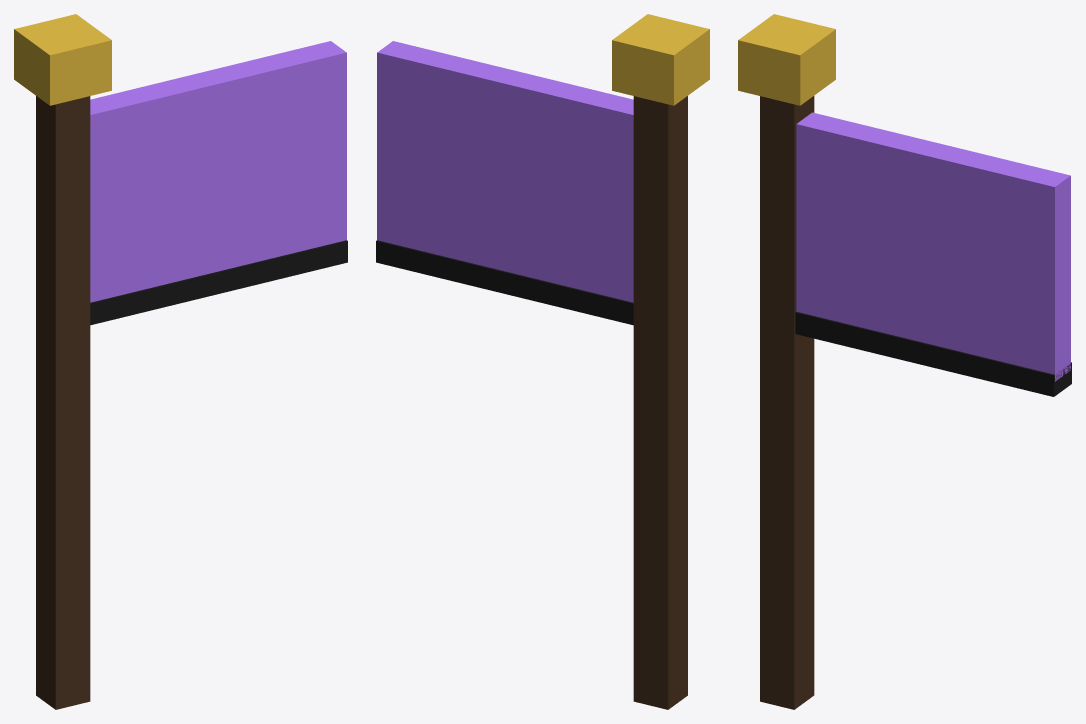
Rendered from flag_4.glb.
3 renders of one model, left to right at view 1: azimuth 30°, elevation 25°; view 2: azimuth 150°, elevation 25°; view 3: azimuth 330°, elevation 25°, orthographic.
Bounding box in the file's own units: 0.89 × 1.84 × 0.18.
1 material, 1 textured.
